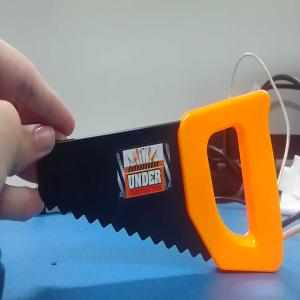serrote: (51, 86, 285, 275)
